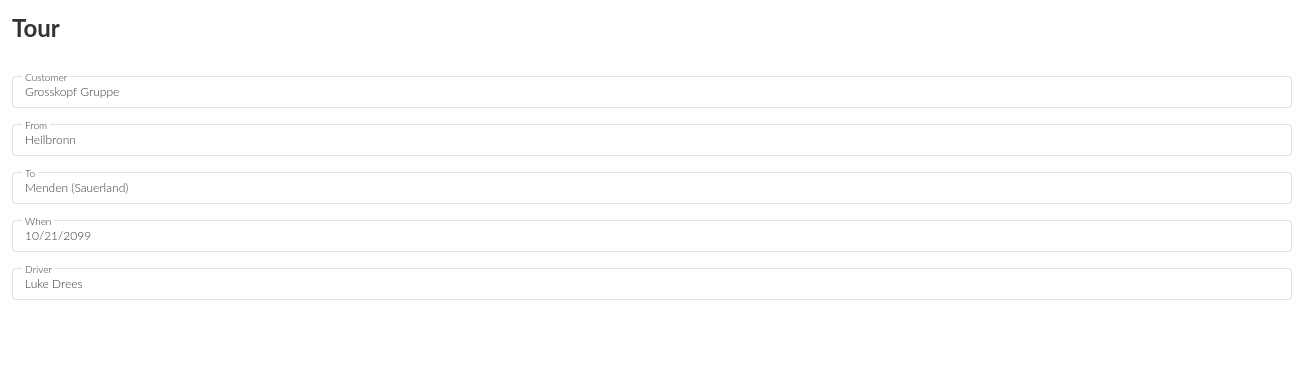
it: CgTourCard › shows controls
The width and height of the screenshot is (1304, 365).
Expected: the text "Cancel" is not shown
Expected: the text "Apply" is not shown
Replace the text in the field next to "Customer" with "John Doe" at (652, 92), box x1=13 y1=77 x2=1291 y2=107
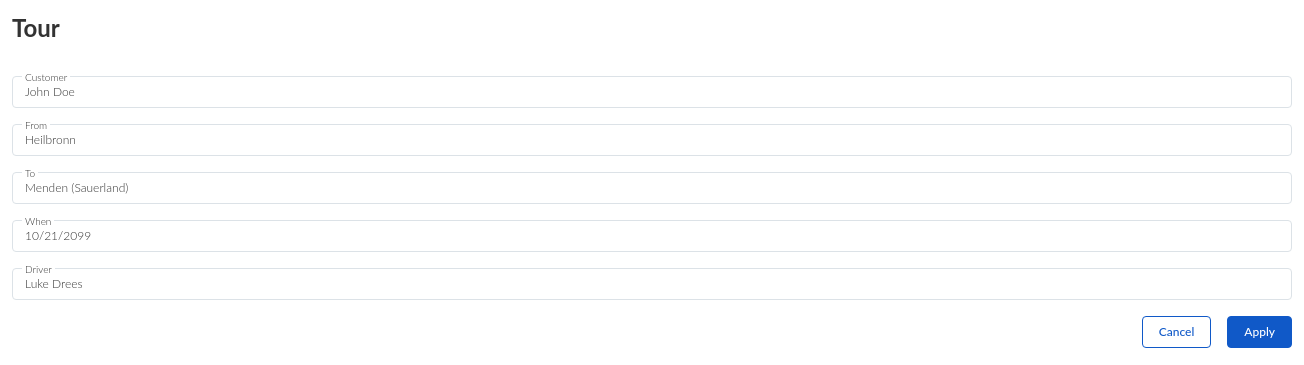
Now the text "Cancel" is shown, box x1=1142 y1=316 x2=1211 y2=348
Now the text "Apply" is shown, box x1=1227 y1=316 x2=1292 y2=348
